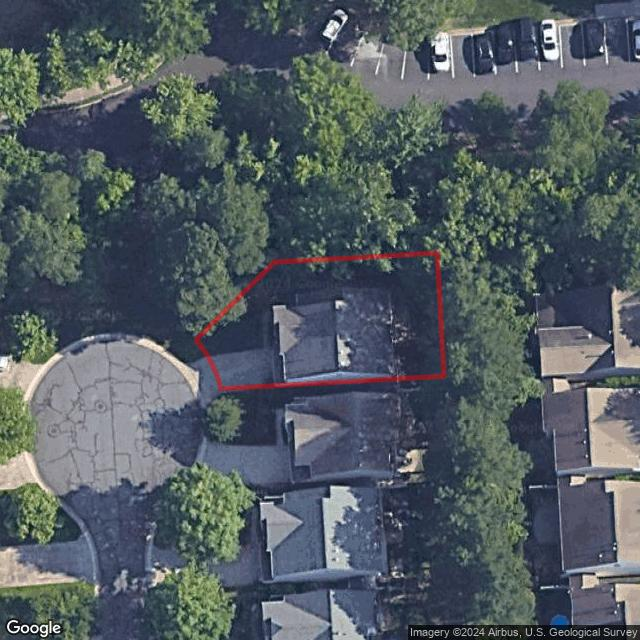Driveway: (208, 345, 278, 390)
Extra-Driveway: (187, 356, 222, 397)
Extra-Lawn: (174, 338, 209, 365)
House: (273, 285, 396, 380)
Lawn: (195, 254, 444, 390)
Other: (390, 285, 418, 344)
Sidewalk: (261, 310, 275, 347)
